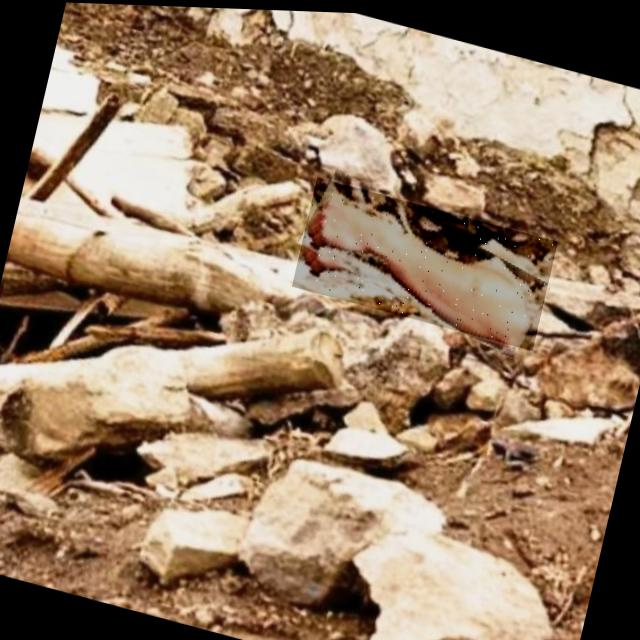Person in Rubble: (292, 173, 558, 347)
